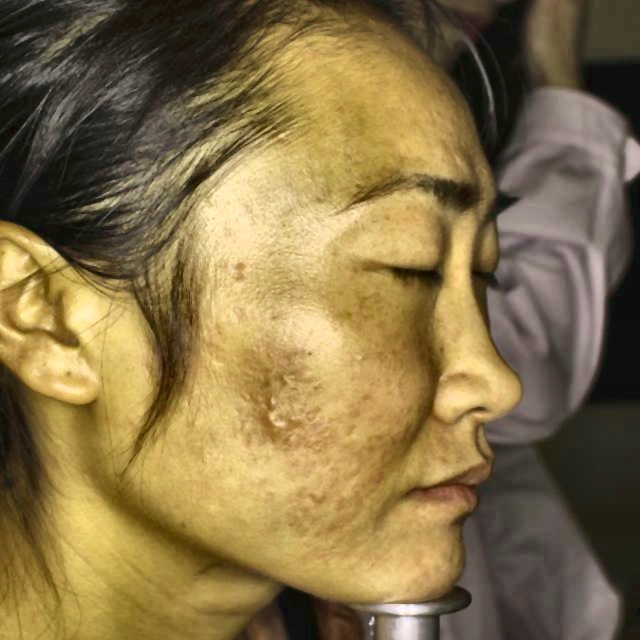comedone: (259, 418, 300, 440), (254, 388, 287, 413)
